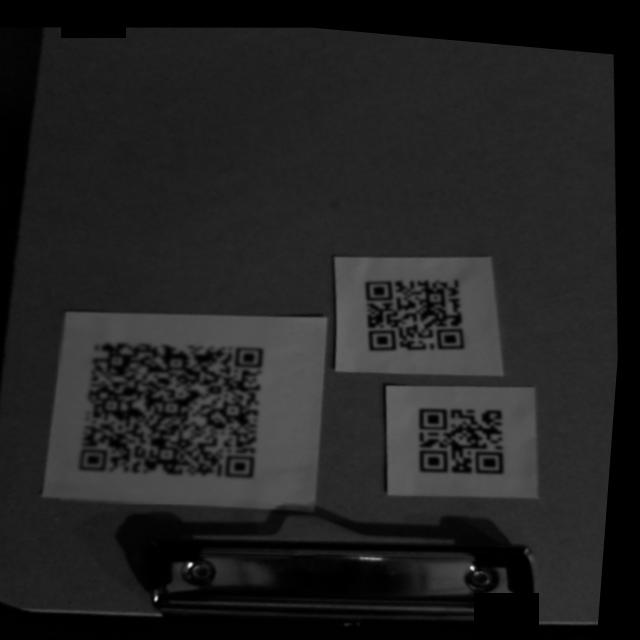QR_CODE: (52, 300, 299, 517), (344, 248, 490, 374), (395, 375, 541, 496)
